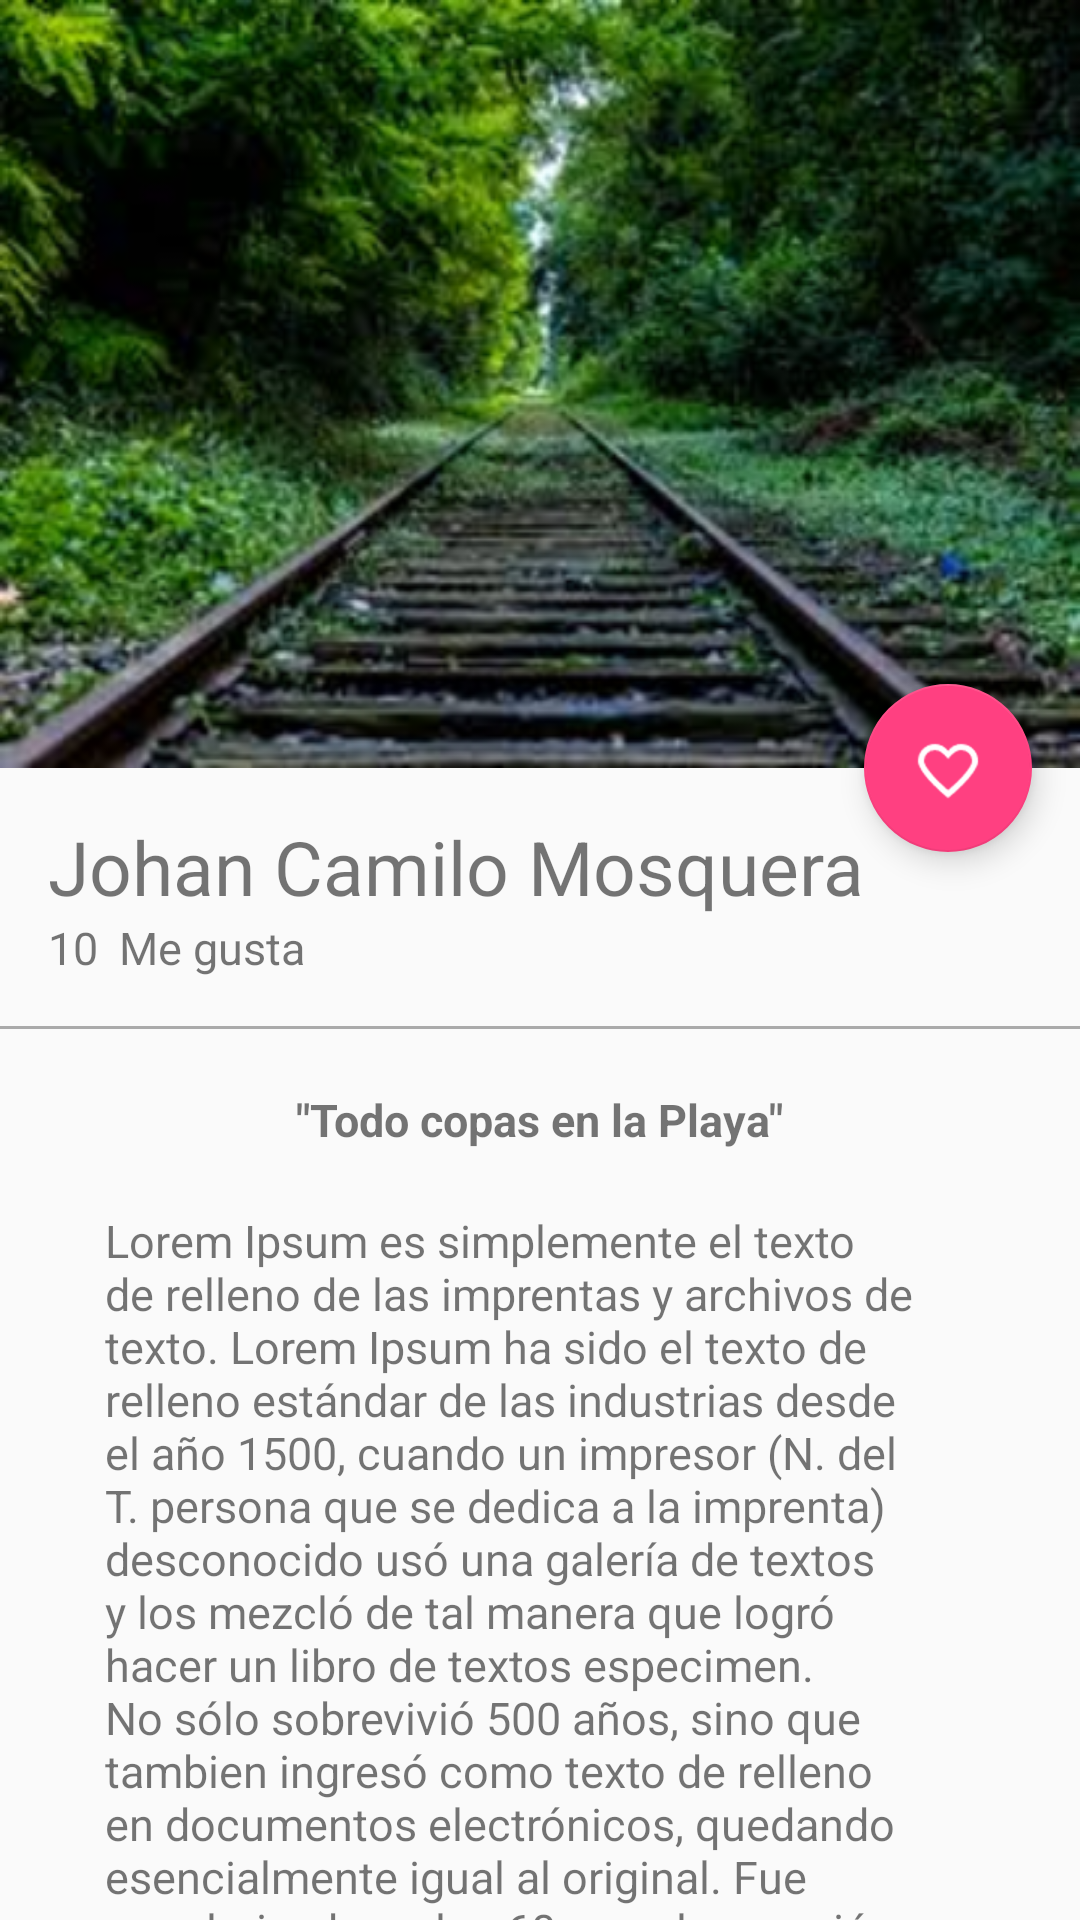

Where to tap for icons on this 1080 x 1920 app screen, as [x,y]:
heart: [948,768]
